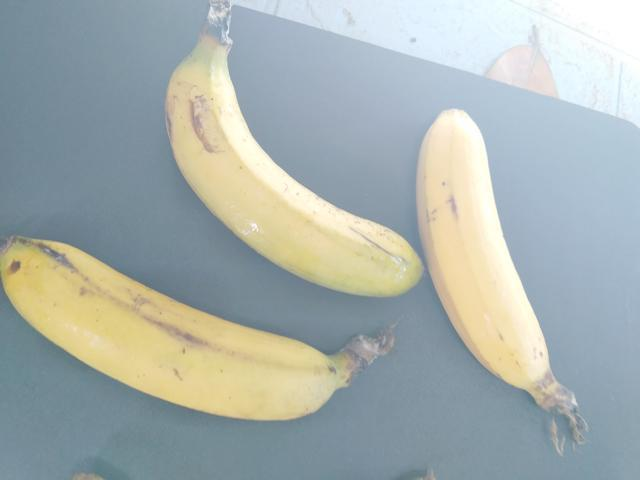freshripe: (401, 65, 566, 386)
ripe: (121, 0, 406, 288), (13, 220, 305, 432)
